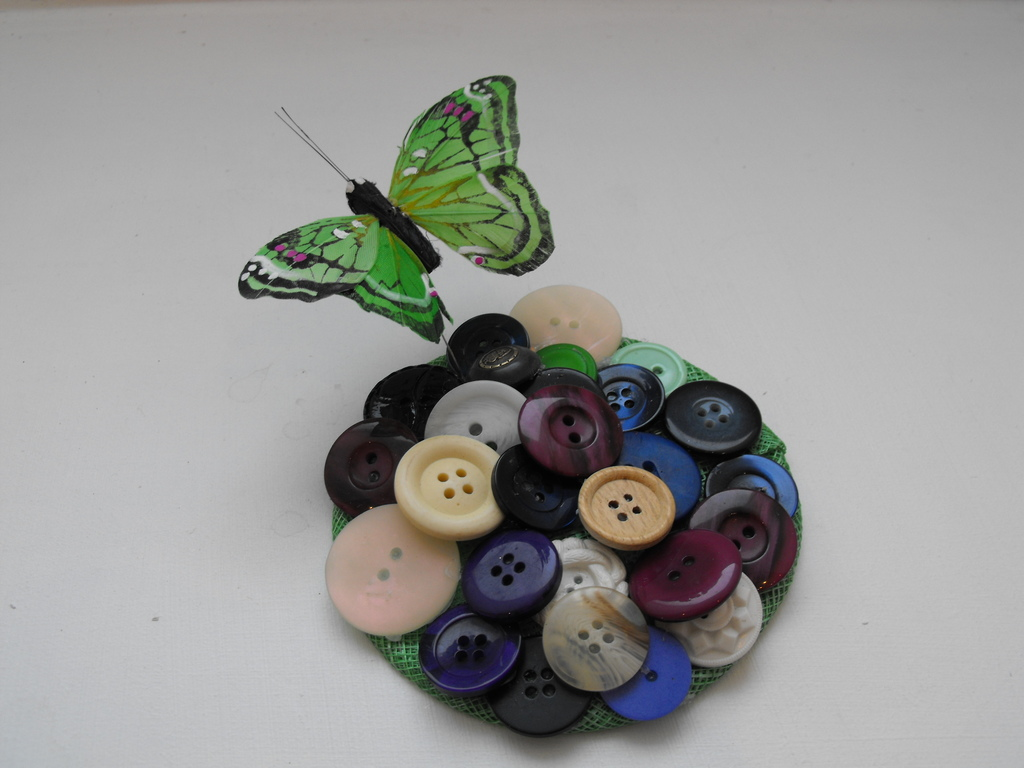Butterfly: (213, 71, 554, 343)
